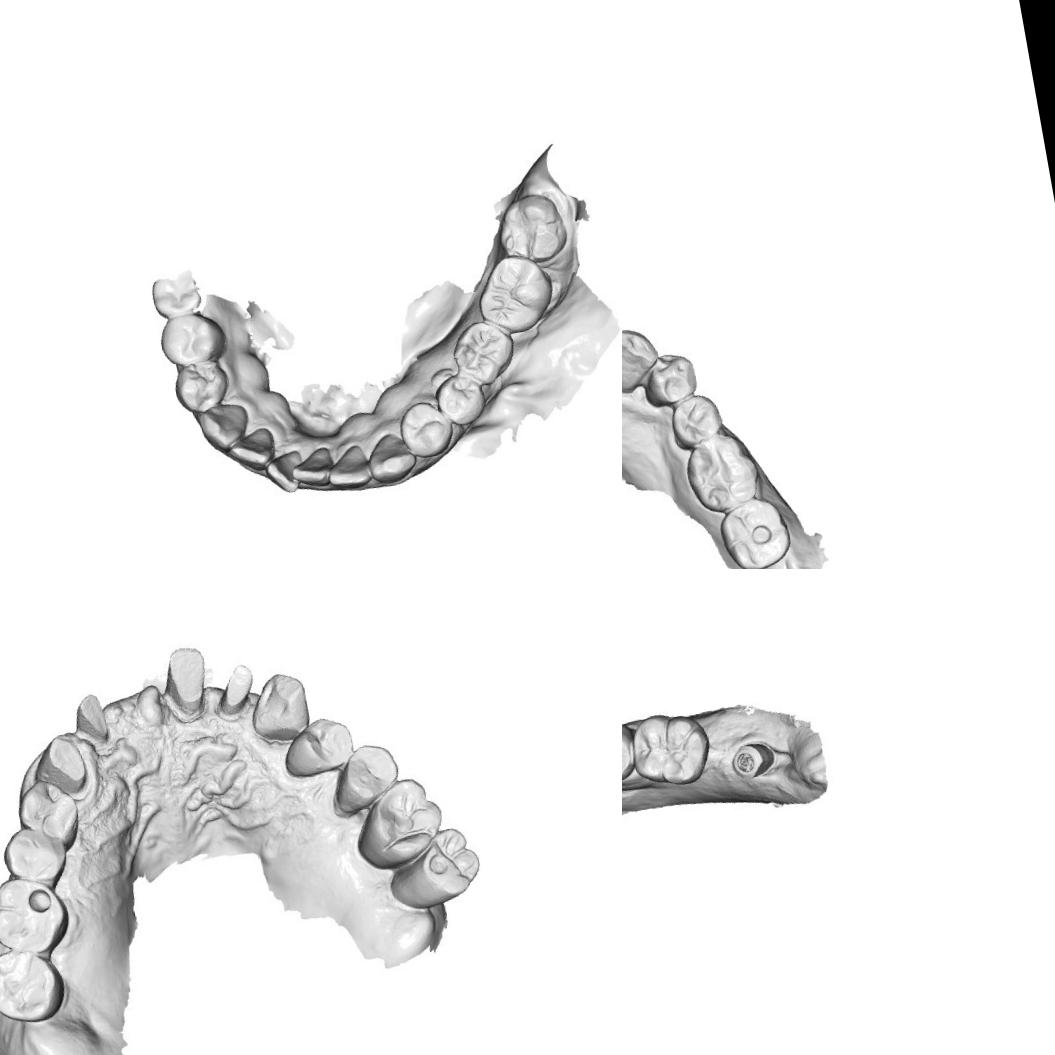canine: (243, 668, 314, 747), (363, 427, 420, 486), (194, 400, 253, 454), (622, 321, 664, 395)
crown: (153, 642, 215, 726), (28, 731, 93, 803), (208, 660, 260, 722), (69, 688, 115, 752)
implant: (724, 731, 780, 784)
incisor: (322, 441, 374, 492), (224, 424, 279, 472), (287, 443, 337, 492), (261, 448, 306, 497)
molar: (346, 771, 449, 874), (380, 823, 486, 915), (622, 702, 717, 794), (468, 247, 560, 340), (0, 869, 74, 962), (490, 187, 573, 269), (686, 430, 766, 515), (0, 941, 70, 1029), (444, 314, 520, 390), (717, 497, 794, 569)
premolar: (322, 739, 404, 820), (11, 772, 84, 858), (276, 712, 358, 780), (0, 820, 71, 893), (154, 306, 230, 368), (168, 355, 237, 418), (392, 396, 456, 463), (431, 370, 491, 430), (669, 390, 729, 448), (645, 351, 697, 404), (622, 716, 640, 789)
